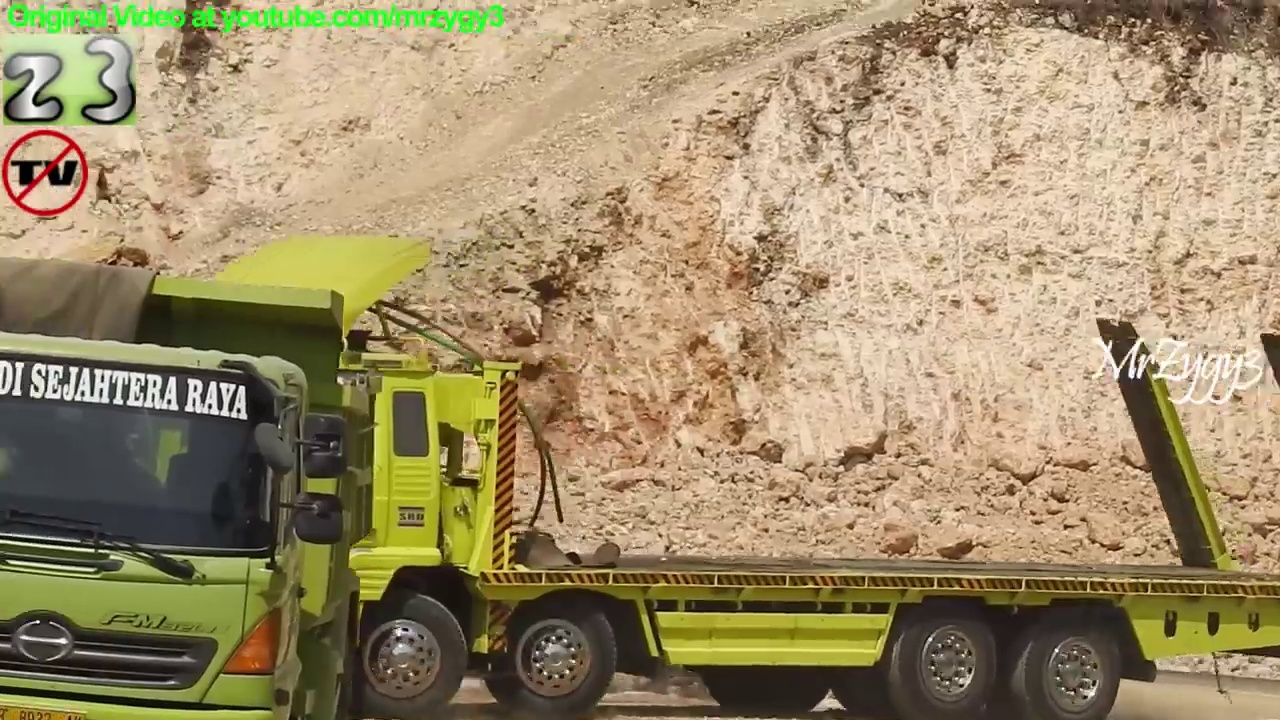truck: (99, 234, 1280, 720), (1, 250, 375, 720)
